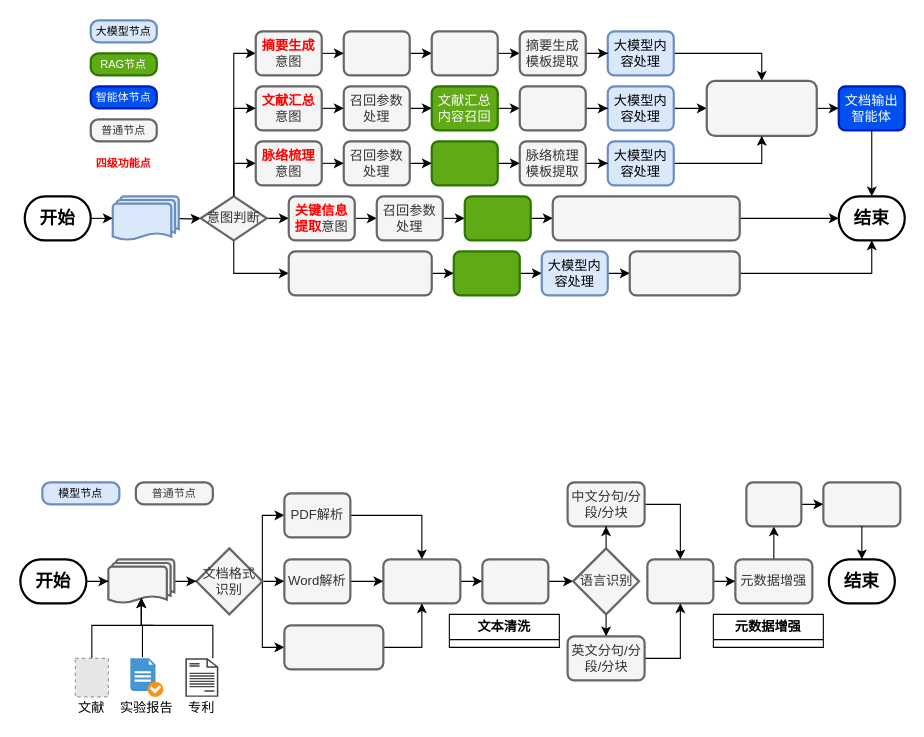
The diagram is 924 pixels wide and 737 high, and some of its shapes have lost their labels. Grey dashed boxes stand in for pictures. The shapes that lost their labels are listed below. From the top down, each one's centre as x and y in pixels, then its label:
pixel 376 53: API参数处理
pixel 464 53: 文档摘要提取服务
pixel 552 108: 文献汇总模板提取
pixel 761 107: 文档参数处理 （包含 证据与引用 ）
pixel 464 163: 脉络梳理内容召回
pixel 145 218: 意图识别与总结
pixel 497 218: 关键信息提取召回
pixel 645 218: 关键信息提取内容 格式化输出 （包含 证据与引用 ）
pixel 359 273: 知识问答 意图总结 （包含其他问答意图及多轮）
pixel 486 273: 问答知识召回
pixel 684 273: 答案 格式化输出 （包含 证据与引用 ）
pixel 773 504: 向量化
pixel 861 504: 向量库存储
pixel 141 581: 文档获取
pixel 421 581: 文本提取与元数据捕获
pixel 515 581: 文本清洗与标准化
pixel 680 581: 语义分块
pixel 333 647: 其他格式转换 （包含多模态识别）
